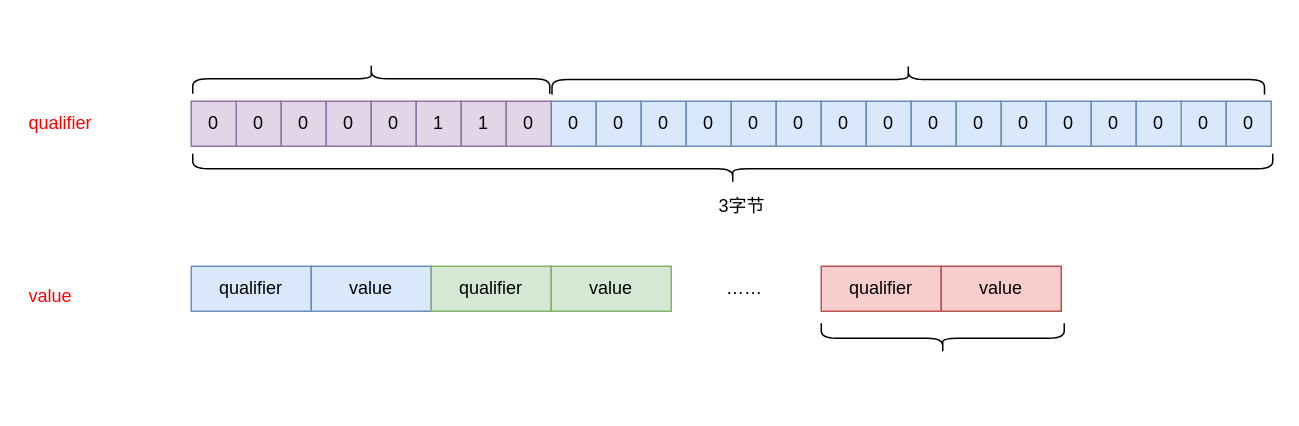
This 1299x426 diagram has some shape labels left out. Here are the shapes that lost their labels. From the top down, the centre of each, then its label:
pixel 370 78: 标志位
pixel 907 78: timestamp
pixel 942 337: AppendRequest
